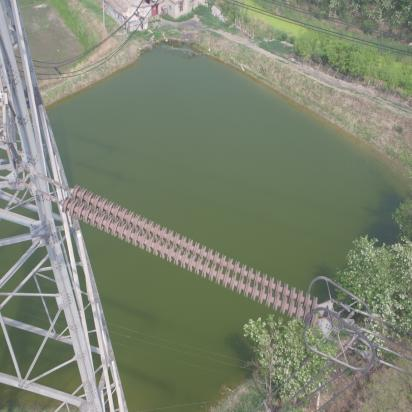insulator: (44, 179, 325, 333)
